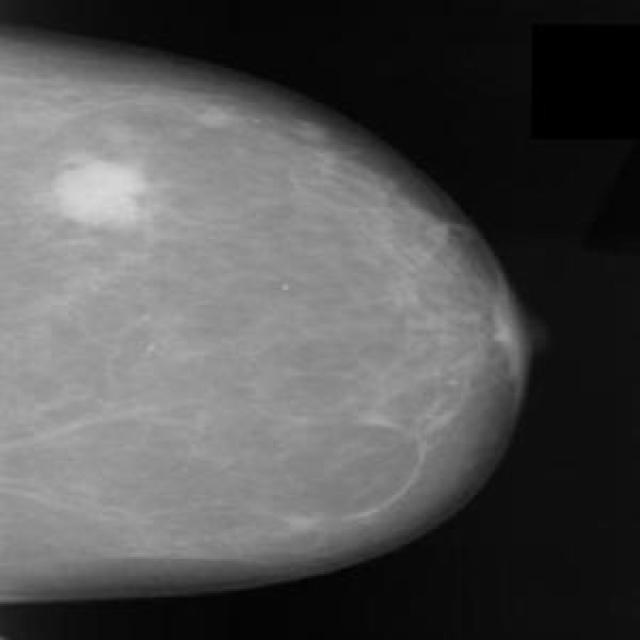tumor: (42, 147, 156, 243)
